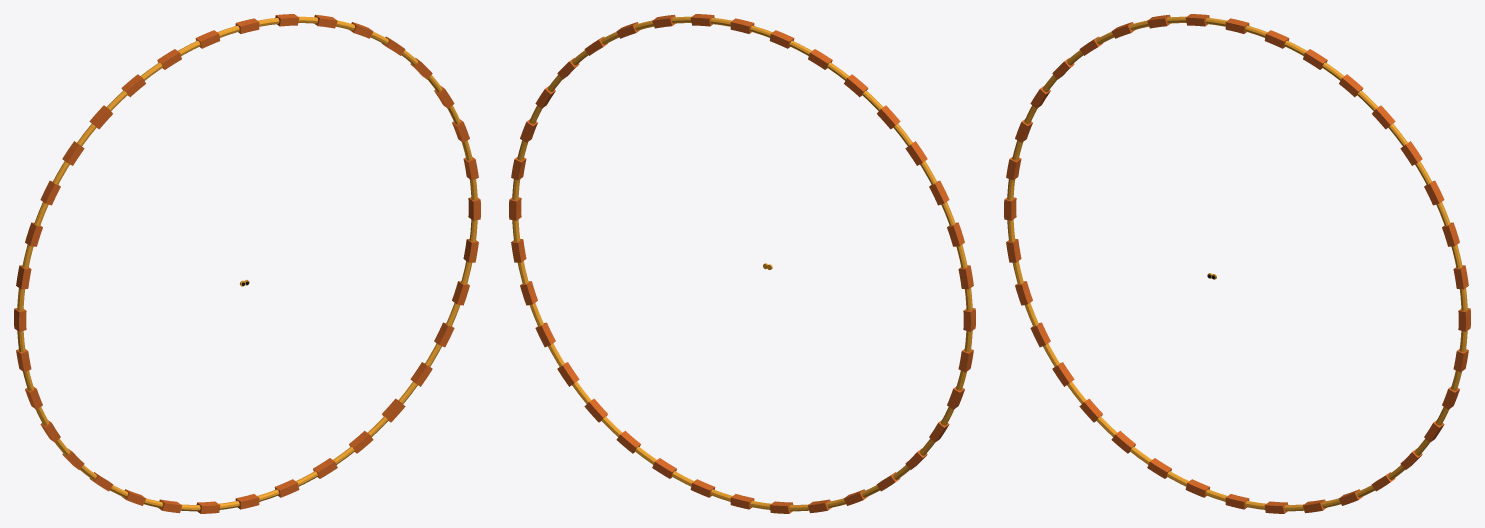
The model's file is 32_L87_SegmentedRimMotorStator.fbx.
3 views of the same model, side by side, from view 1: azimuth 30°, elevation 25°; view 2: azimuth 150°, elevation 25°; view 3: azimuth 330°, elevation 25° (orthographic).
Visible parts, largest first — view 1: L87_SegmentedRimMotorStator_Part_0002, L87_SegmentedRimMotorStator_Part_0000, L87_SegmentedRimMotorStator_Part_0001; view 2: L87_SegmentedRimMotorStator_Part_0002, L87_SegmentedRimMotorStator_Part_0000, L87_SegmentedRimMotorStator_Part_0001; view 3: L87_SegmentedRimMotorStator_Part_0002, L87_SegmentedRimMotorStator_Part_0000, L87_SegmentedRimMotorStator_Part_0001.
Part boxes in pixels (x1,y1,x2,y2): L87_SegmentedRimMotorStator_Part_0002: (17,16,477,511); L87_SegmentedRimMotorStator_Part_0000: (16,14,480,289); L87_SegmentedRimMotorStator_Part_0001: (14,239,478,513); L87_SegmentedRimMotorStator_Part_0002: (512,16,972,511); L87_SegmentedRimMotorStator_Part_0000: (509,14,973,289); L87_SegmentedRimMotorStator_Part_0001: (511,239,975,513); L87_SegmentedRimMotorStator_Part_0002: (1007,16,1467,511); L87_SegmentedRimMotorStator_Part_0000: (1006,14,1470,331); L87_SegmentedRimMotorStator_Part_0001: (1004,197,1468,513).
Bounding box in the file's own units: 1209 × 1209 × 66.7.
